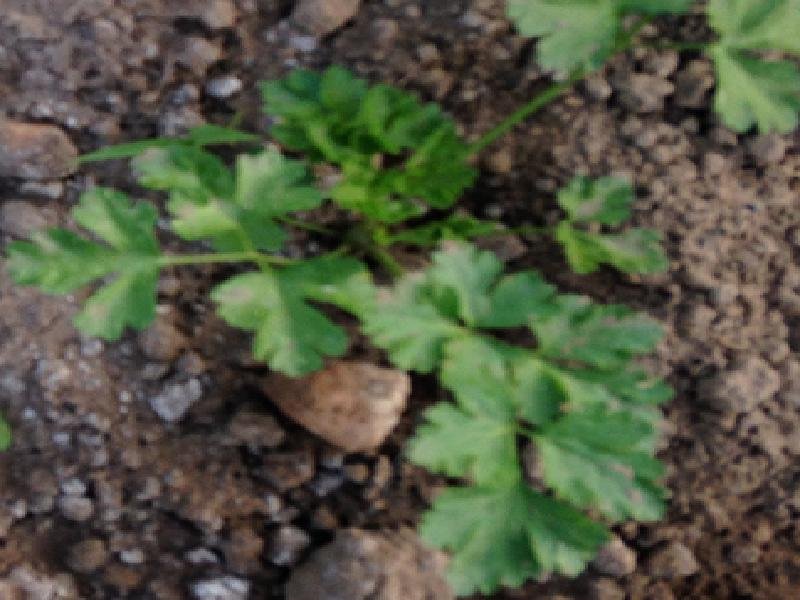radish: (0, 0, 800, 591)
